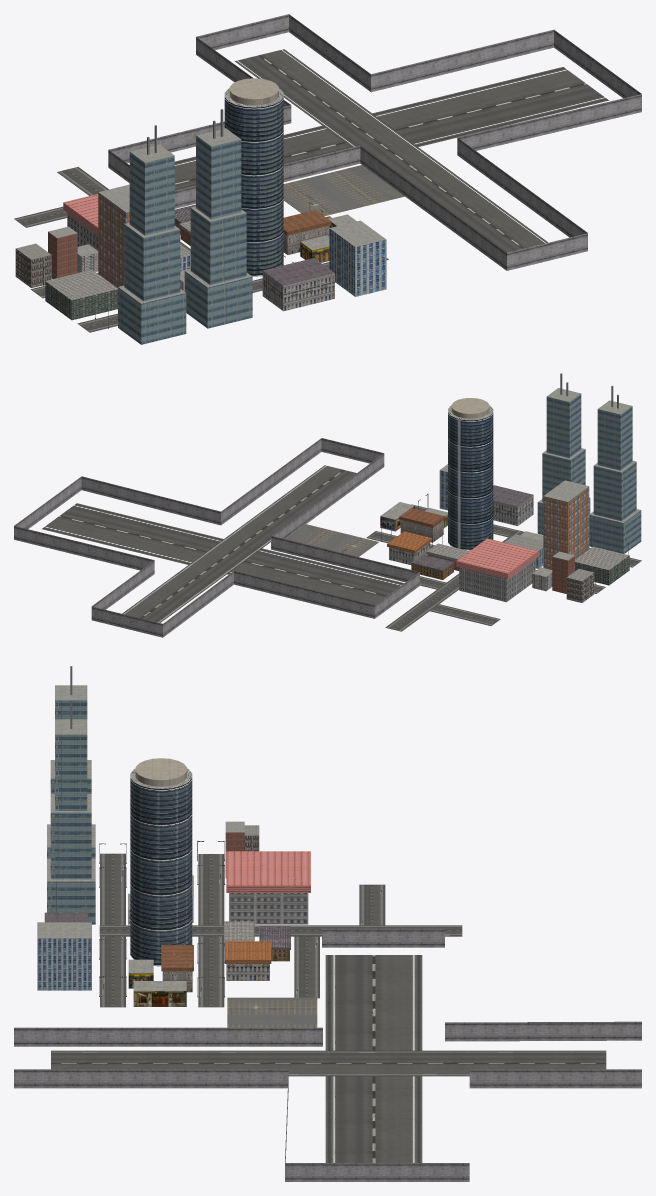
File: newcity.obj
The picture shows the model from 3 angles, top to bottom: view 1: azimuth 30°, elevation 25°; view 2: azimuth 150°, elevation 25°; view 3: azimuth 270°, elevation 25°; orthographic projection. The views are drawn at different scales.
Parts seen in each view (by area): view 1: Line001, Plane002, Plane003, Cylinder001, Box007, Box019, Box020, Box021, Box018, h8, Box022, Box017 (+15 smaller); view 2: Line001, Plane003, Plane002, Cylinder001, h15, Box019, Box020, Box021, Box024, Box022, Box023, Box007 (+18 smaller); view 3: Line001, Plane003, Plane002, Cylinder001, Box003, h8, Box002, Box024, Box018, Box019, Box007, Box023 (+10 smaller).
Boxes of the visible parts, x1,y1,x2,y2 form: Line001: (108,14,641,270); Plane002: (234,49,547,252); Plane003: (174,67,608,190); Cylinder001: (224,88,283,276); Box007: (283,165,404,215); Box019: (196,128,241,219); Box020: (129,144,174,235); Box021: (124,222,180,301); Box018: (190,206,246,285); h8: (329,220,386,296); Box022: (118,285,186,344); Box017: (184,269,252,328); Line001: (14,438,419,637); Plane003: (42,503,404,604); Plane002: (122,465,356,622); Cylinder001: (448,405,493,550); h15: (543,480,589,569); Box019: (546,388,581,458); Box020: (597,400,632,470); Box021: (593,460,636,521); Box024: (456,538,538,578); Box022: (589,509,641,553); Box023: (459,559,535,602); Box007: (286,524,378,556); Line001: (14,928,641,1181); Plane003: (325,955,422,1162); Plane002: (51,1050,606,1076); Cylinder001: (130,768,192,966); Box003: (198,854,224,1007); h8: (37,922,91,990); Box002: (100,853,125,1007); Box024: (226,851,310,892); Box018: (50,794,91,879); Box019: (55,719,87,810); Box007: (227,997,317,1027); Box023: (229,893,308,924).
Size of the model in its own units: 6310 by 1924 by 5100.
46 materials, 43 textured.
